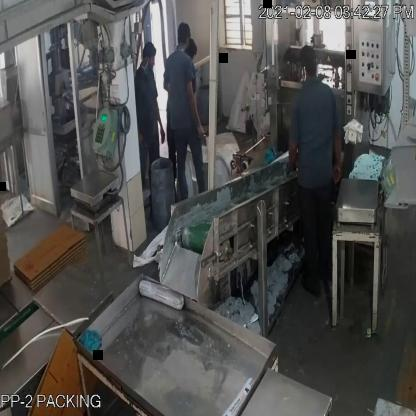no_glove: (186, 68, 209, 149), (331, 119, 345, 184), (281, 128, 297, 175)
